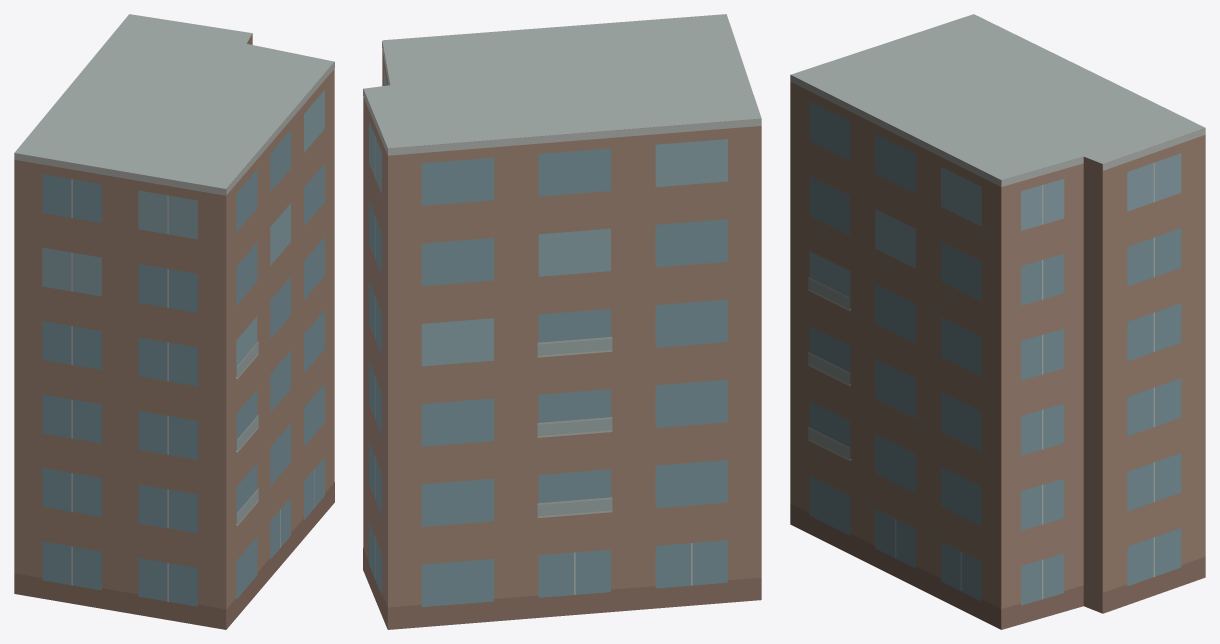
The model's file is survey-upis-32730999.glb.
The picture shows the model from 3 angles, left to right: view 1: azimuth 30°, elevation 25°; view 2: azimuth 150°, elevation 25°; view 3: azimuth 270°, elevation 25°; orthographic projection. The views are drawn at different scales.
Parts seen in each view (by area): view 1: survey-upis-32730999.tmp; view 2: survey-upis-32730999.tmp; view 3: survey-upis-32730999.tmp.
Part boxes in pixels (<box>): survey-upis-32730999.tmp: <box>14,14,334,629</box>; survey-upis-32730999.tmp: <box>363,14,761,629</box>; survey-upis-32730999.tmp: <box>790,14,1205,629</box>.
Bounding box in the file's own units: 12.61 × 15.9 × 13.31.
